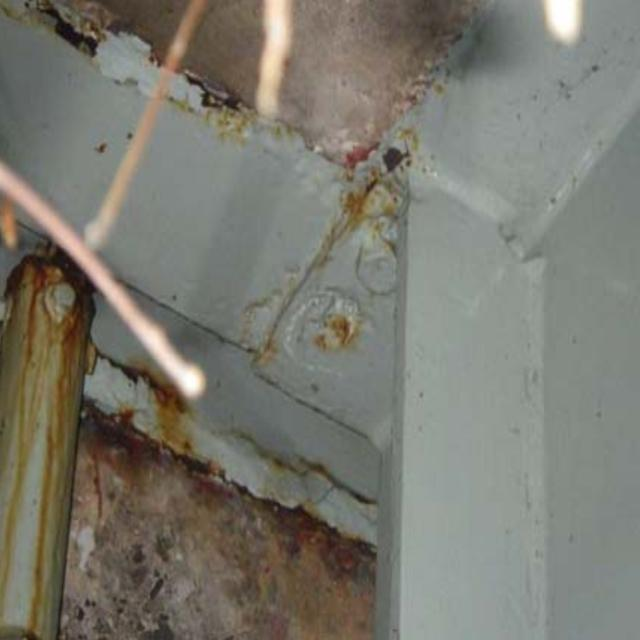corrosion: (13, 220, 188, 640), (254, 119, 406, 370)
